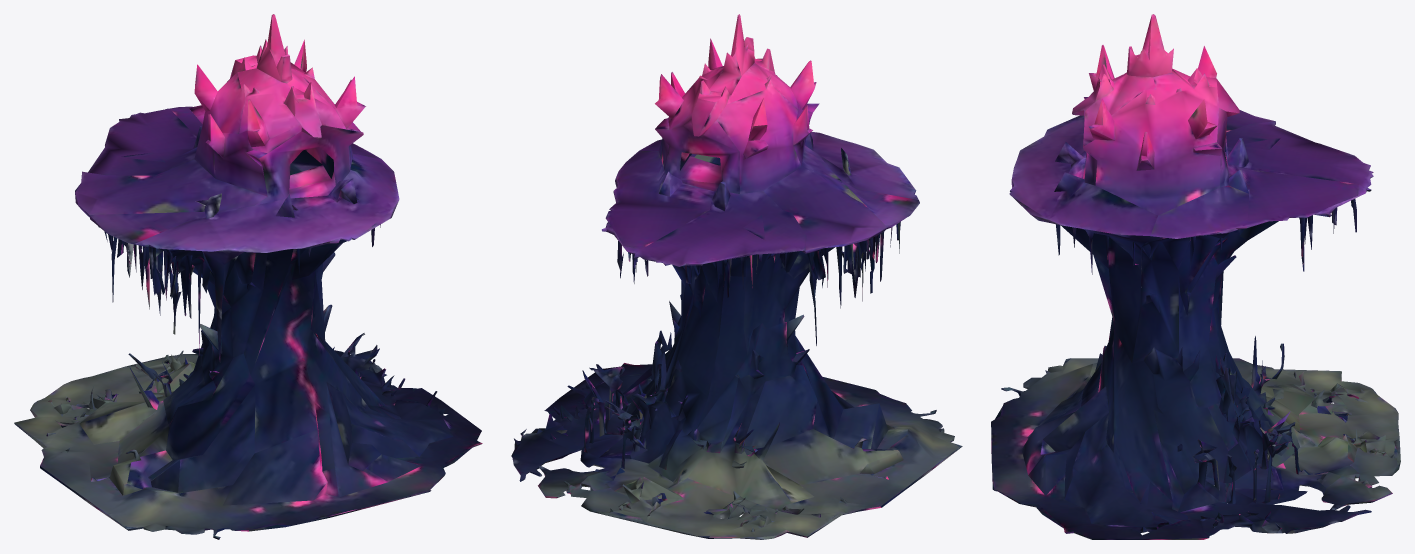
The model's file is yggdrasil-crown-perch-spire.collider.glb.
3 renders of one model, left to right at view 1: azimuth 30°, elevation 25°; view 2: azimuth 150°, elevation 25°; view 3: azimuth 270°, elevation 25°, orthographic. The views are drawn at different scales.
Visible parts, largest first — view 1: temp_mesh.ply; view 2: temp_mesh.ply; view 3: temp_mesh.ply.
Part boxes in pixels (x1,y1,x2,y2): temp_mesh.ply: (14, 14, 482, 539); temp_mesh.ply: (511, 14, 962, 539); temp_mesh.ply: (991, 14, 1400, 539).
Bounding box in the file's own units: 1.74 × 1.97 × 1.67.
Materials: 1 (1 with a texture image).
